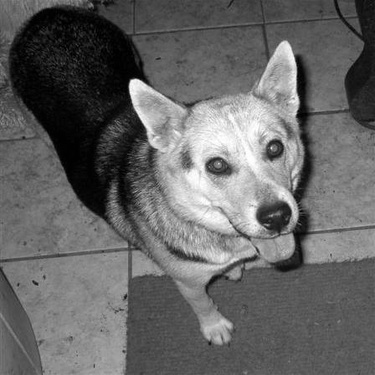dog: (2, 4, 316, 352)
